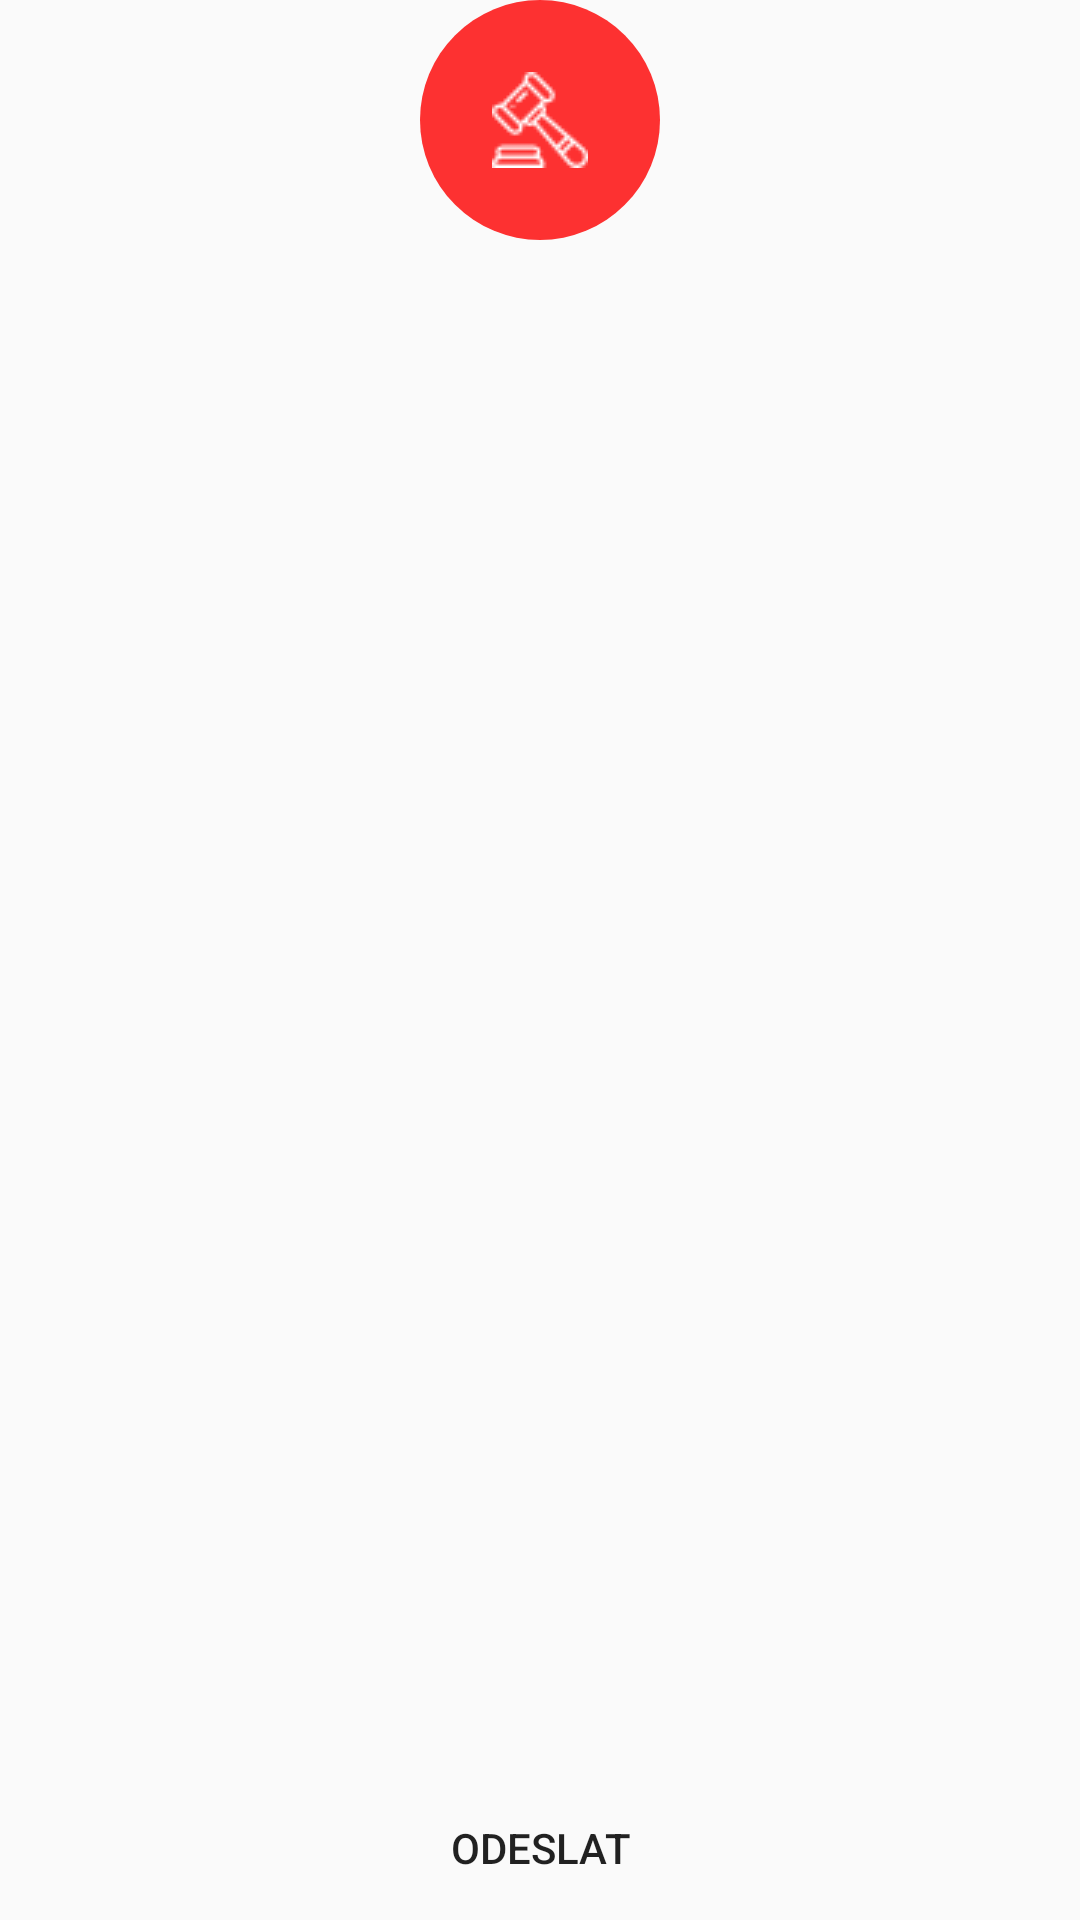

Locate icon controls on the screen. Image size 1080w x 1920h, boxes as [x1,y1,x2,y2].
auction: [420,0,660,240]
